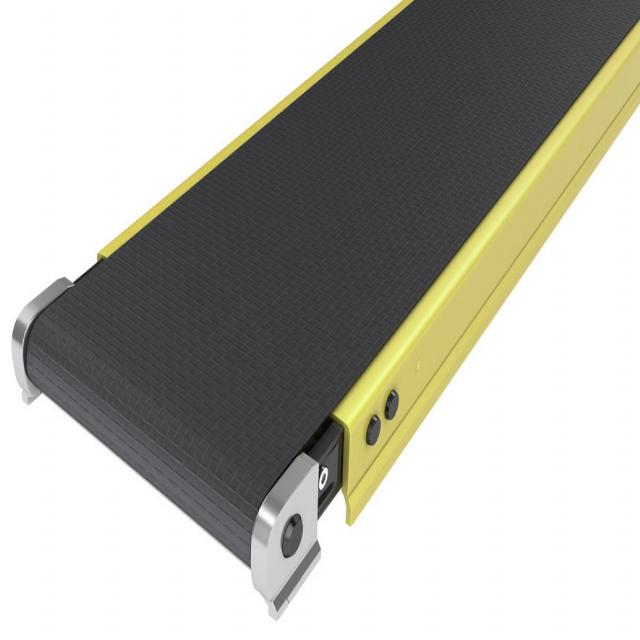Convoyeur: (8, 0, 640, 593)
